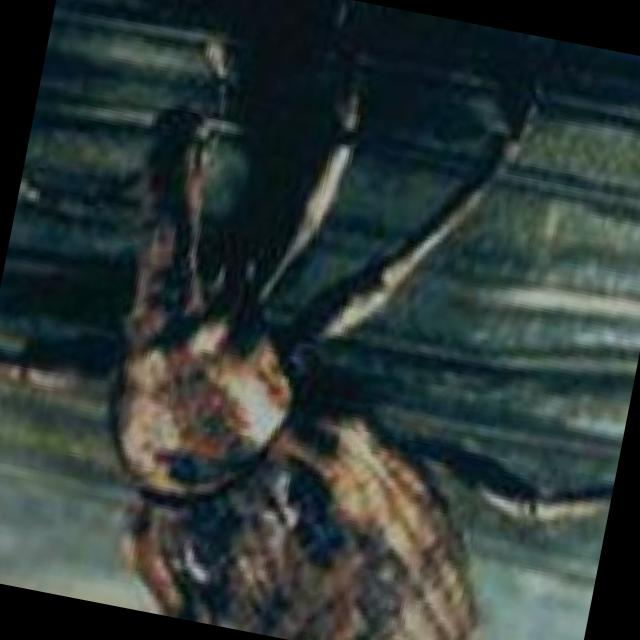rice-bug: (43, 81, 571, 640)
